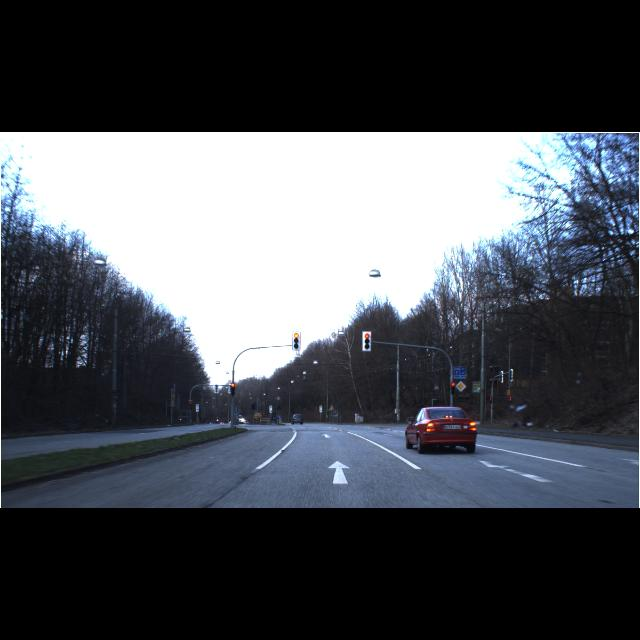other: (455, 381, 467, 393)
